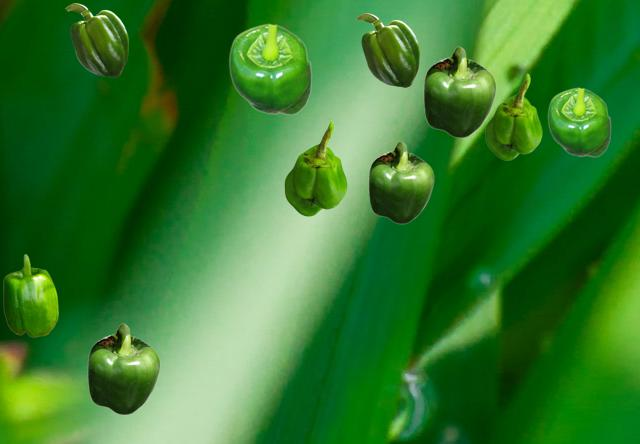bell_pepper: (228, 23, 311, 114), (423, 46, 495, 137), (87, 323, 159, 414), (284, 120, 346, 215), (368, 141, 433, 223), (485, 73, 541, 159), (356, 13, 418, 86), (65, 3, 127, 76), (3, 254, 57, 336), (547, 87, 610, 156)
